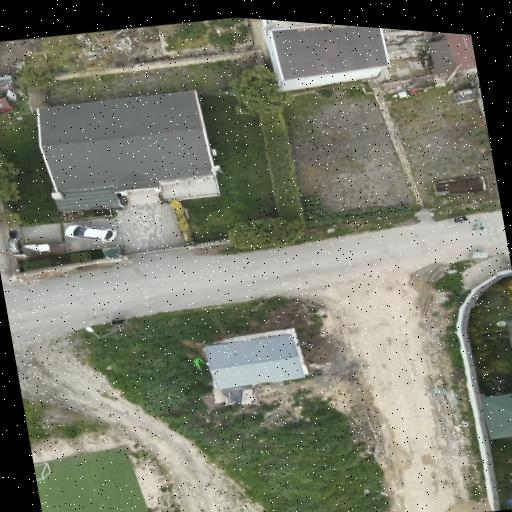car: (65, 224, 117, 241)
